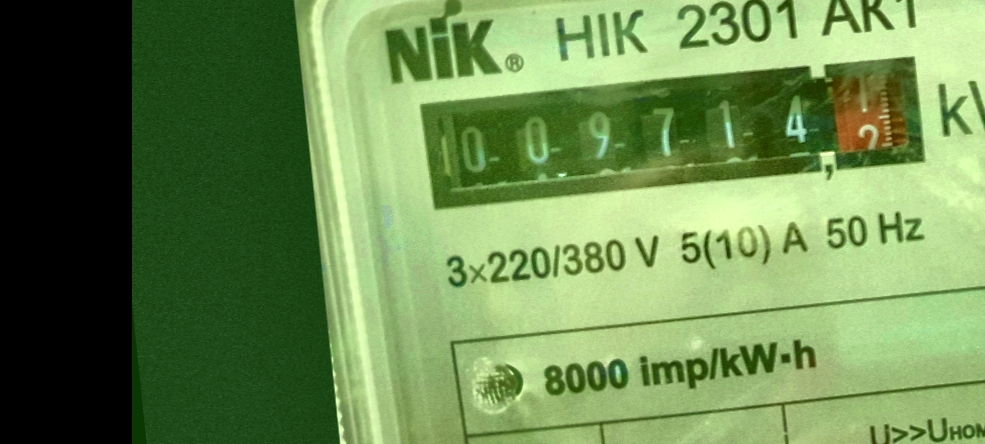0: (456, 120, 490, 176), (520, 110, 551, 166)
1: (713, 93, 741, 151), (852, 71, 871, 115)
2: (854, 118, 881, 151)
4: (778, 90, 812, 147)
7: (649, 103, 680, 159)
9: (582, 106, 615, 161)
screen: (404, 35, 944, 231)
